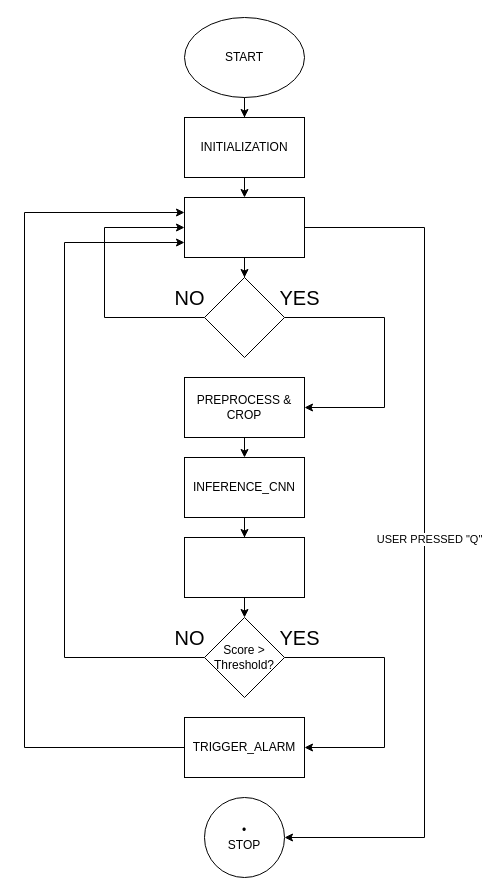
Some shapes in this 499 by 895 pixel diagram are drawn without their labels. The shapes that lost their labels are listed below. From the top down, each one's centre as x and y in pixels, then its label:
point (244, 227): ACQUIRE_FRAME
point (244, 317): Face Detected?
point (244, 567): UPDATE_SCORE
